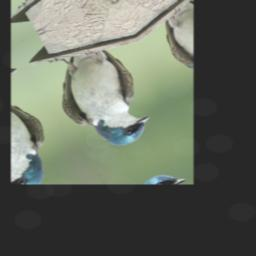Swallow: (37, 31, 164, 162)
